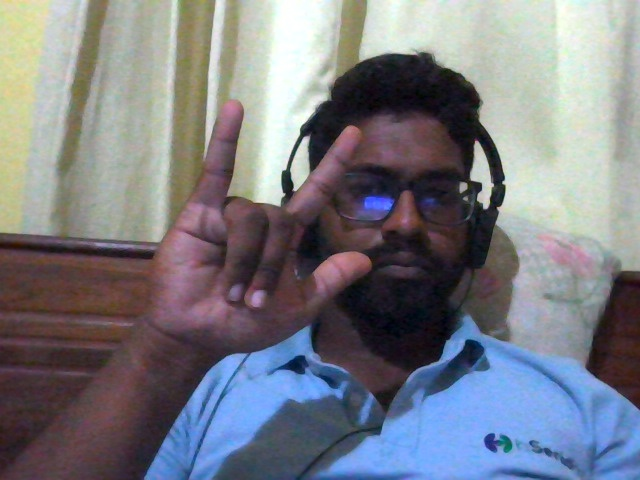I Love You: (121, 87, 378, 368)
